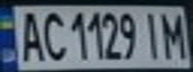1: (66, 8, 87, 61), (84, 8, 103, 61)
2: (100, 8, 121, 60)
9: (118, 8, 142, 61)
A: (15, 8, 45, 63)
C: (39, 7, 66, 62)
I: (139, 8, 166, 61)
M: (157, 9, 190, 60)
